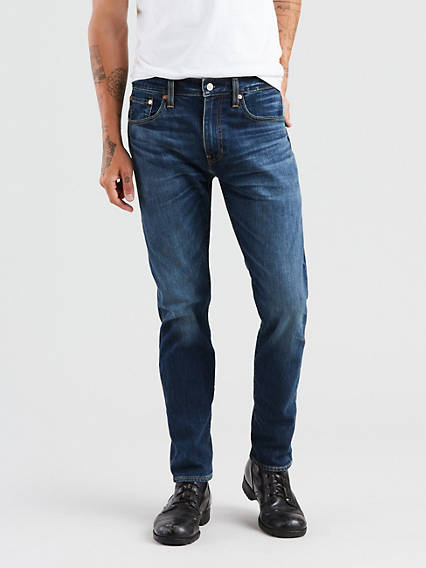jeans: (133, 84, 307, 473)
